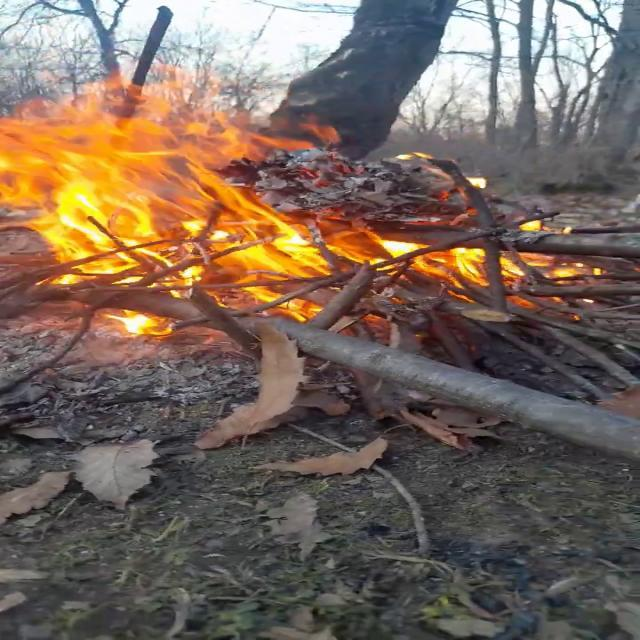Fire: (0, 84, 599, 336)
